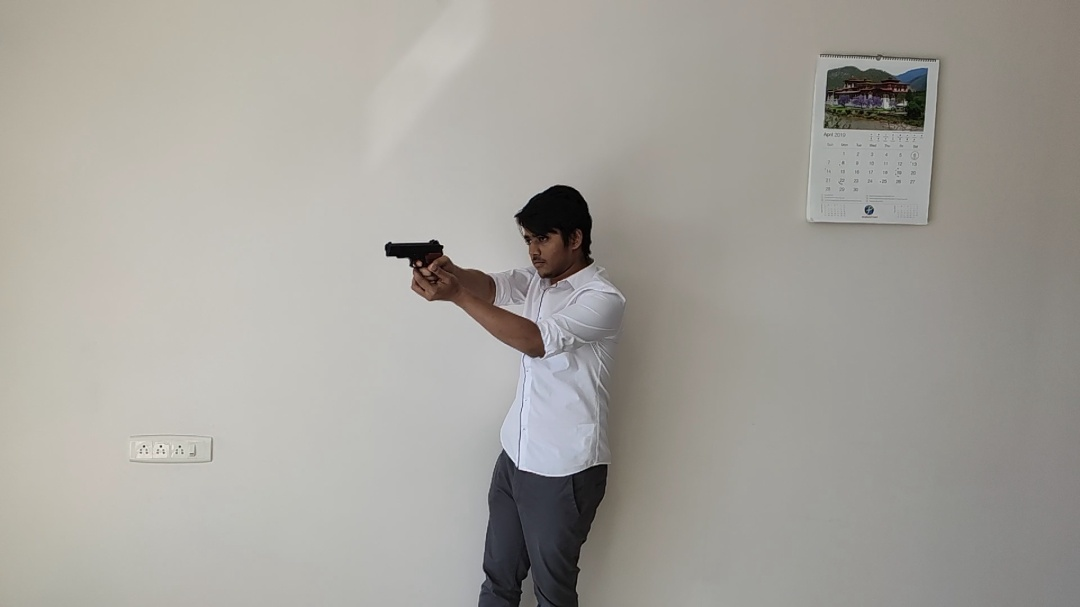gun: (384, 239, 445, 280)
